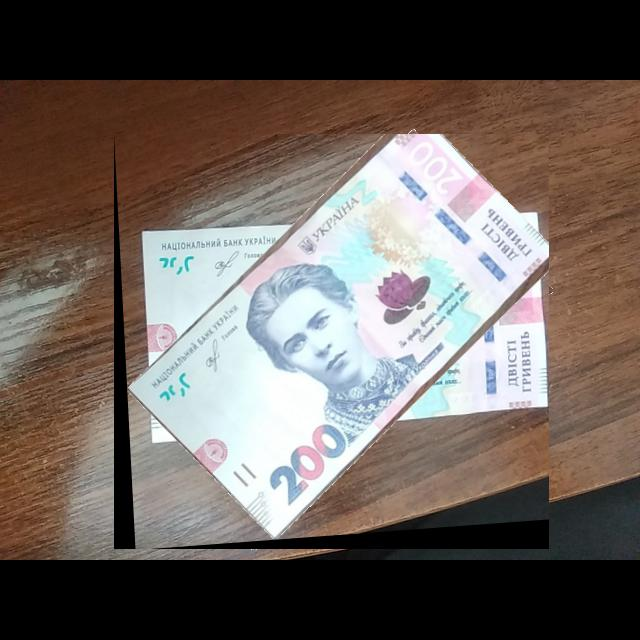200uah: (124, 134, 550, 542)
